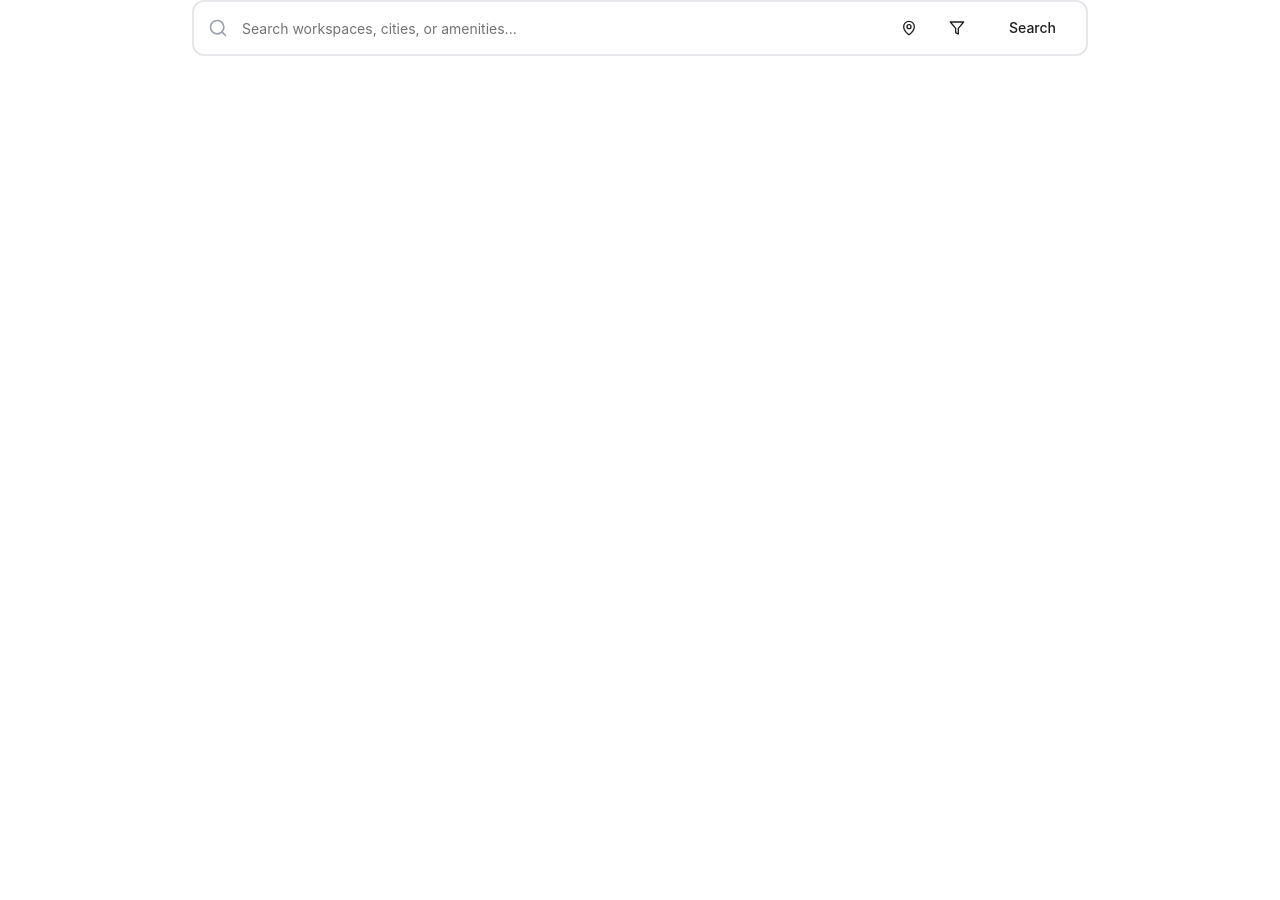
SearchBar Component › Filter Functionality › should open filter popover when filter button is clicked
This screenshot has width=1280, height=900.
Click the 2nd button.
click(957, 28)  # box x1=937 y1=8 x2=977 y2=48
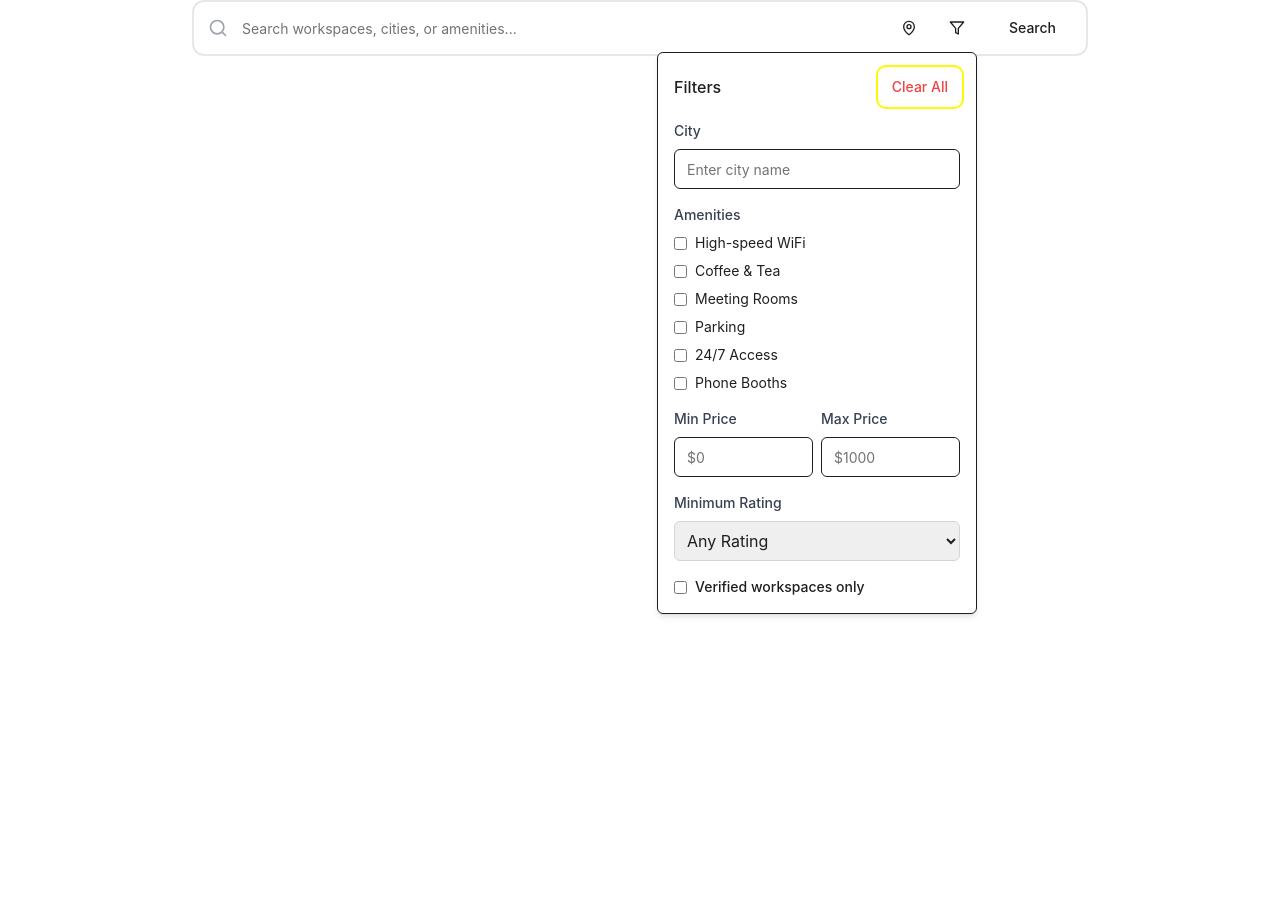
Now the heading "Filters" is shown, box x1=674 y1=75 x2=721 y2=99
Now the field with placeholder "Enter city name" is shown, box x1=674 y1=149 x2=960 y2=189
